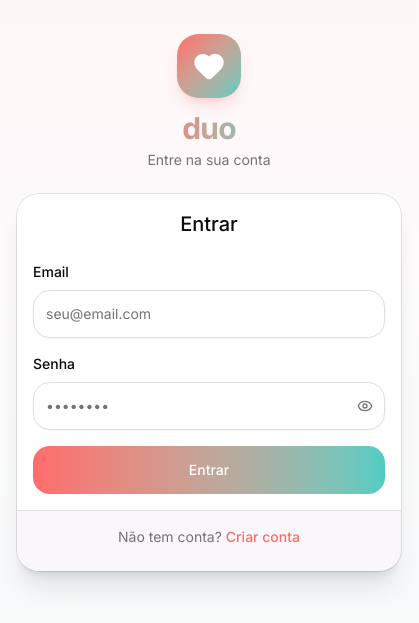
it: LoginPage › should show error on invalid credentials
Step 1. Type "test@test.com" into the field labelled "Email" → {"x": 209, "y": 314}, box [33,290,385,338]
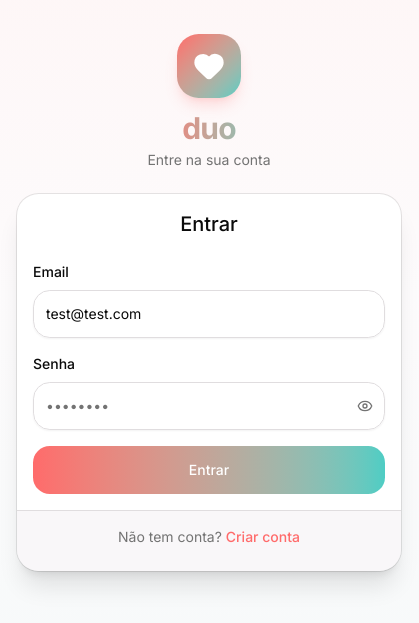
Step 2. Type "123456" into the password field labelled "Senha" → {"x": 209, "y": 406}, box [33,382,385,430]
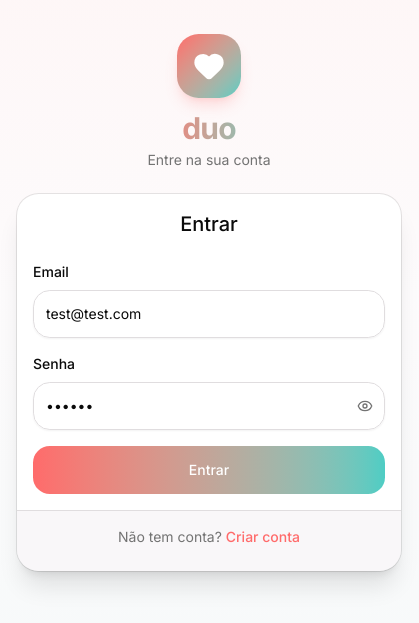
Step 3. Click the button "Entrar" → {"x": 209, "y": 470}, box [33,446,385,494]
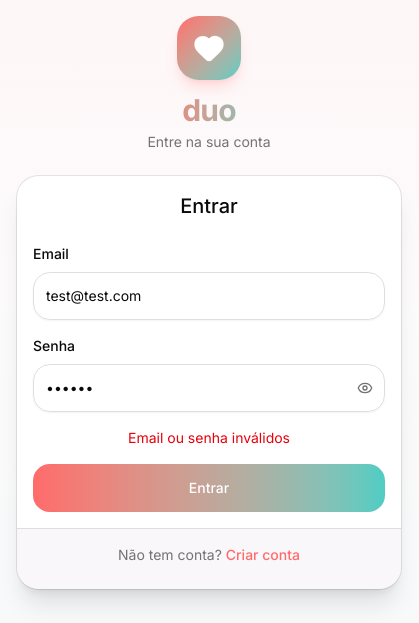
Check: the text "Email ou senha inválidos" is shown, box [128,428,290,446]
